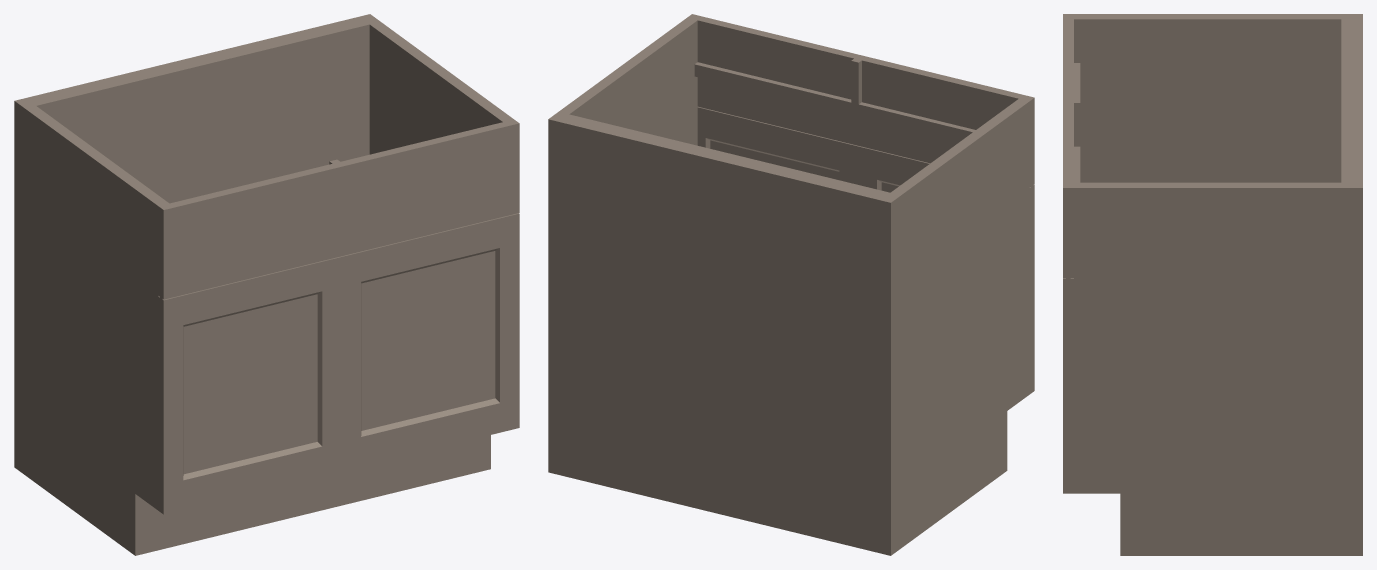
File: Universal-Design-Sink-Base-Cabinet-Double_std_001_W33in.glb
The picture shows the model from 3 angles, left to right: view 1: azimuth 30°, elevation 25°; view 2: azimuth 150°, elevation 25°; view 3: azimuth 270°, elevation 25°; orthographic projection. The views are drawn at different scales.
Parts seen in each view (by area): view 1: Universal-Design-Sink-Base-Cabinet-Double.std.001_W33in; view 2: Universal-Design-Sink-Base-Cabinet-Double.std.001_W33in; view 3: Universal-Design-Sink-Base-Cabinet-Double.std.001_W33in.
Boxes of the visible parts, box(x1,y1,x2,y2) form: Universal-Design-Sink-Base-Cabinet-Double.std.001_W33in: box(14, 14, 519, 555); Universal-Design-Sink-Base-Cabinet-Double.std.001_W33in: box(548, 14, 1034, 555); Universal-Design-Sink-Base-Cabinet-Double.std.001_W33in: box(1063, 14, 1362, 555).
Size of the model in its own units: 0.8382 by 0.8255 by 0.6096.
